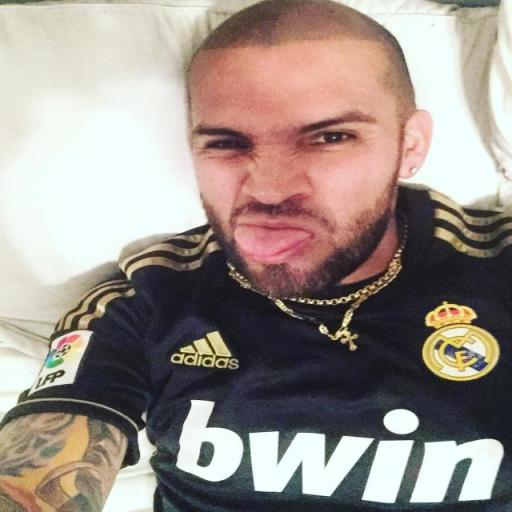Adidas: (166, 326, 243, 372)
